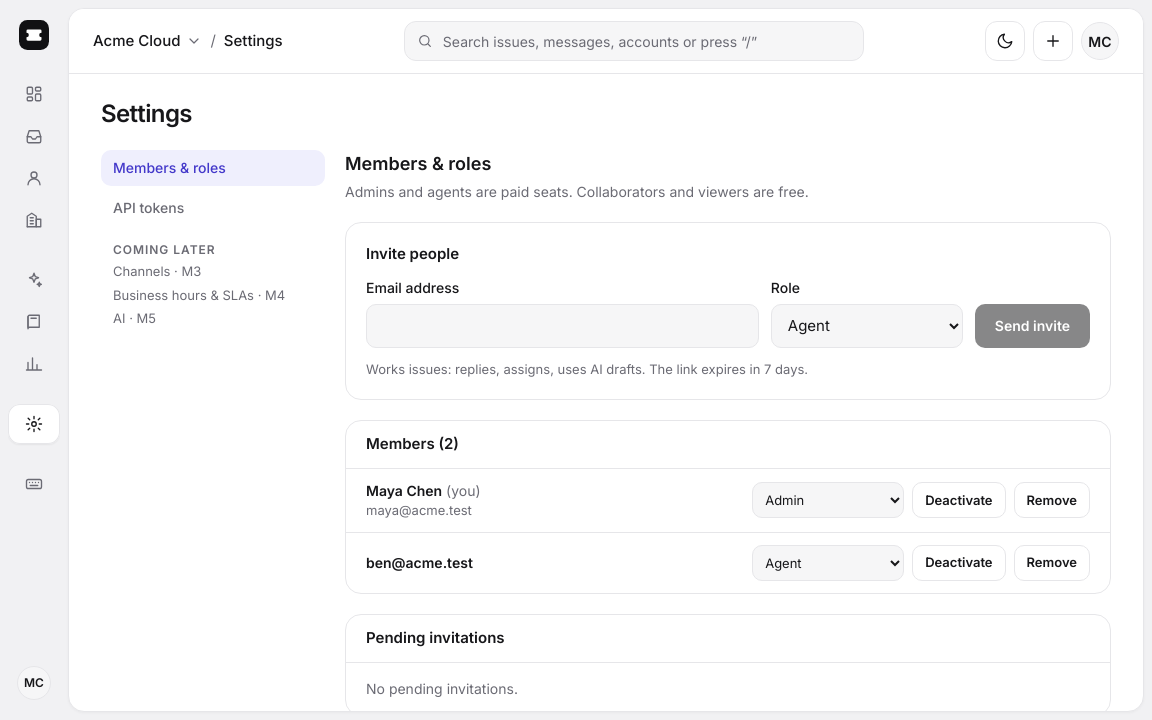
Scenario: settings › members (FR-1.3) › sends an invite and refreshes the pending list
Expected: the text "No pending invitations." is shown, [366,680,518,696]
Step 1. Type "sam@acme.test" into the field labelled "Email address" → (562, 326), box [366,304,759,348]
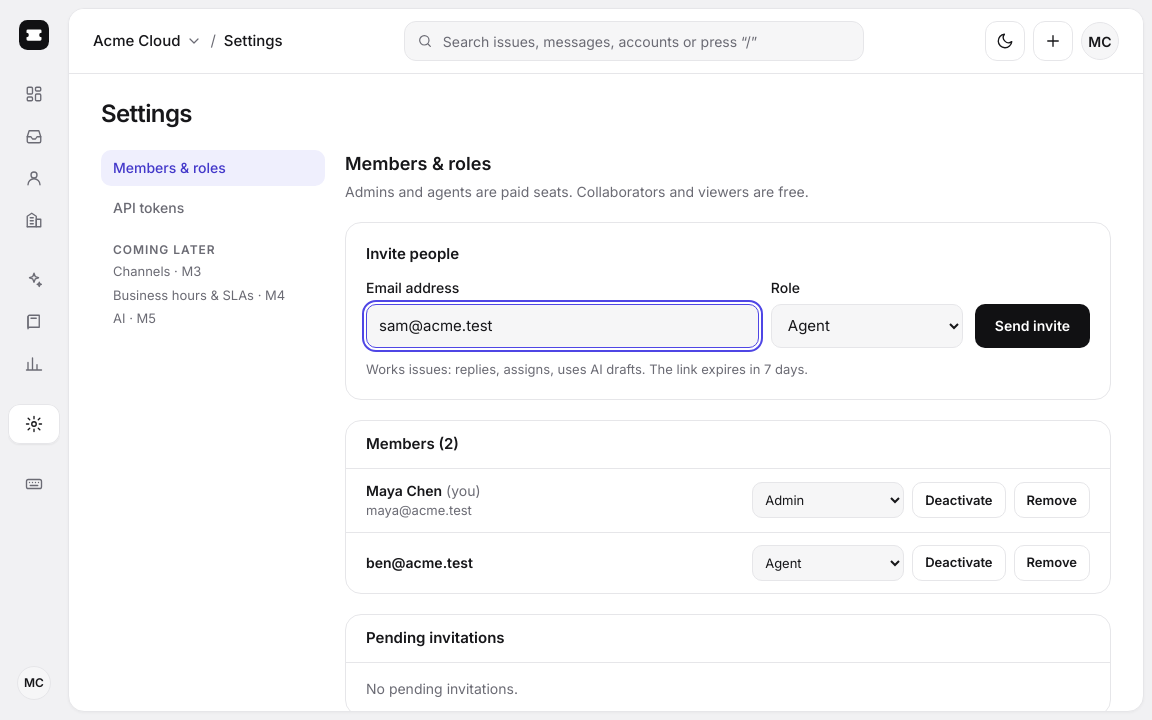
Step 2. Select "Collaborator (free)" in the dropdown labelled "Role" → (867, 326), box [771,304,963,348]
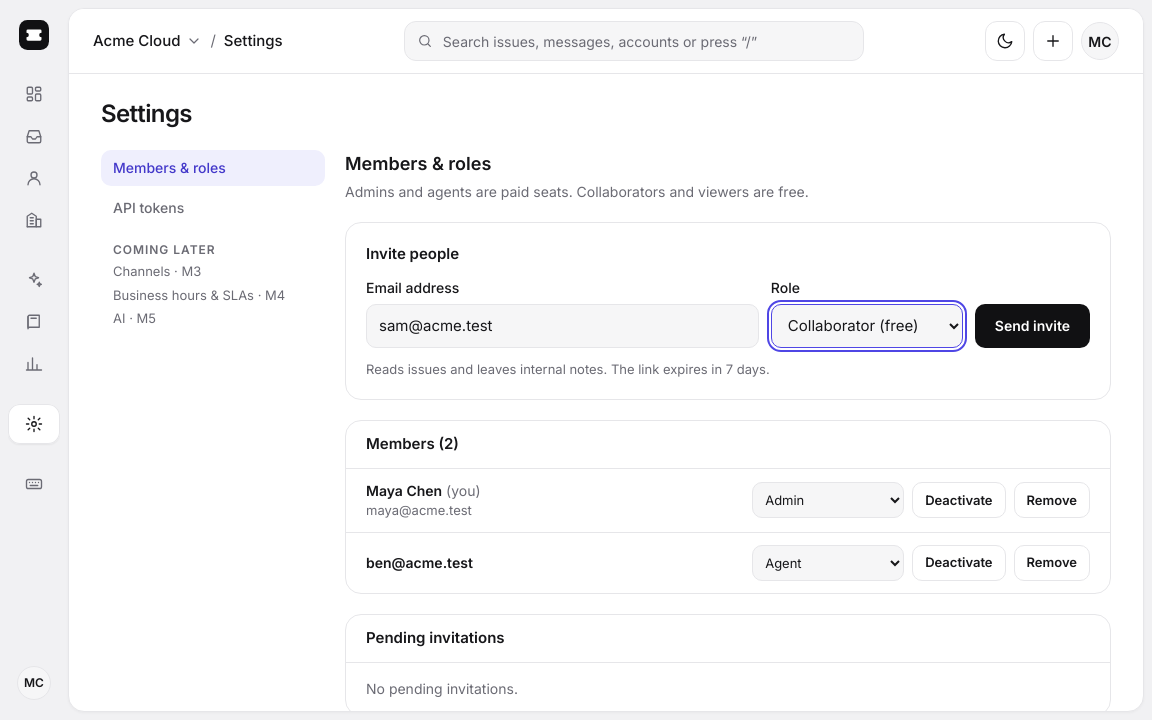
Step 3. Click the button "Send invite" → (1032, 326), box [975,304,1090,348]
(page scrolled)
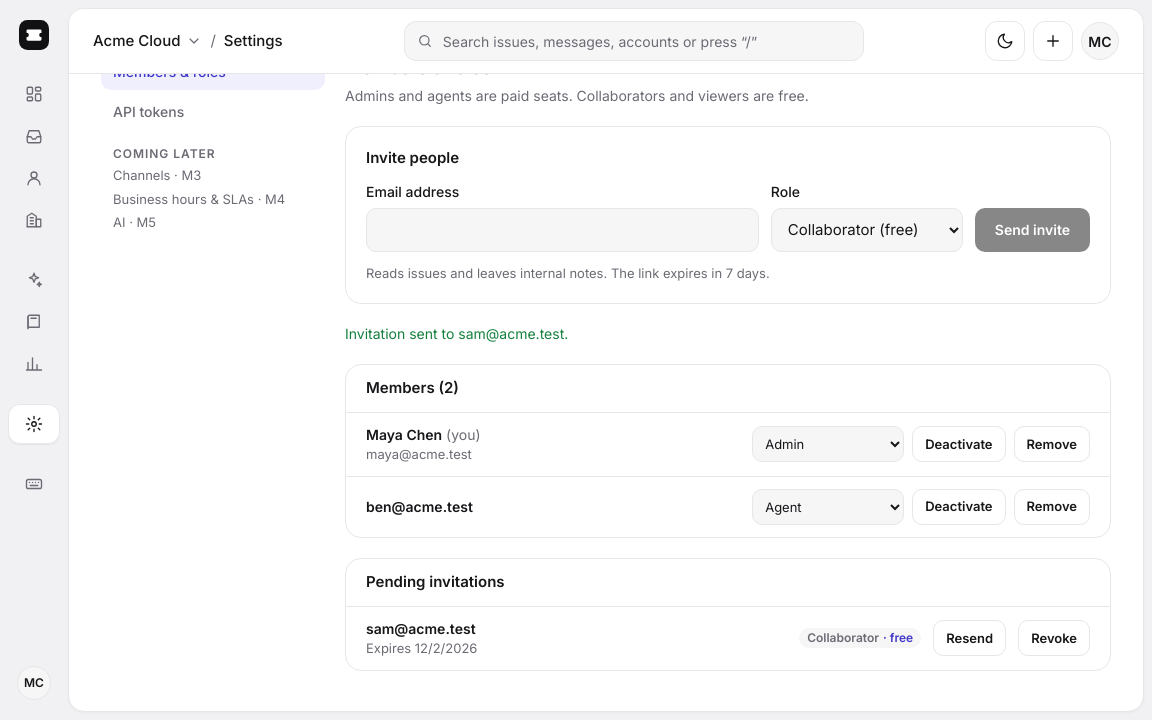
Expected: the message reads "Invitation sent to sam@acme.test.", [345,325,568,342]
Expected: the button with aria-label "Revoke invitation to sam@acme.test" is shown, [1018,620,1090,656]
